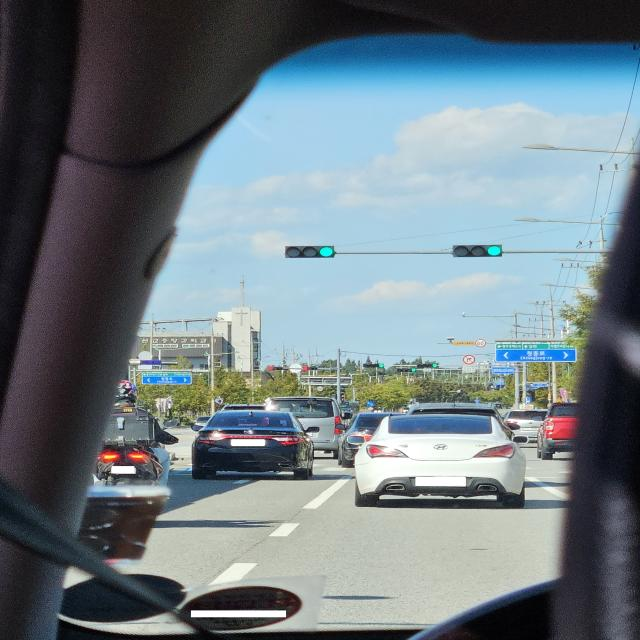Green Light: (486, 245, 502, 257), (318, 246, 334, 257)
